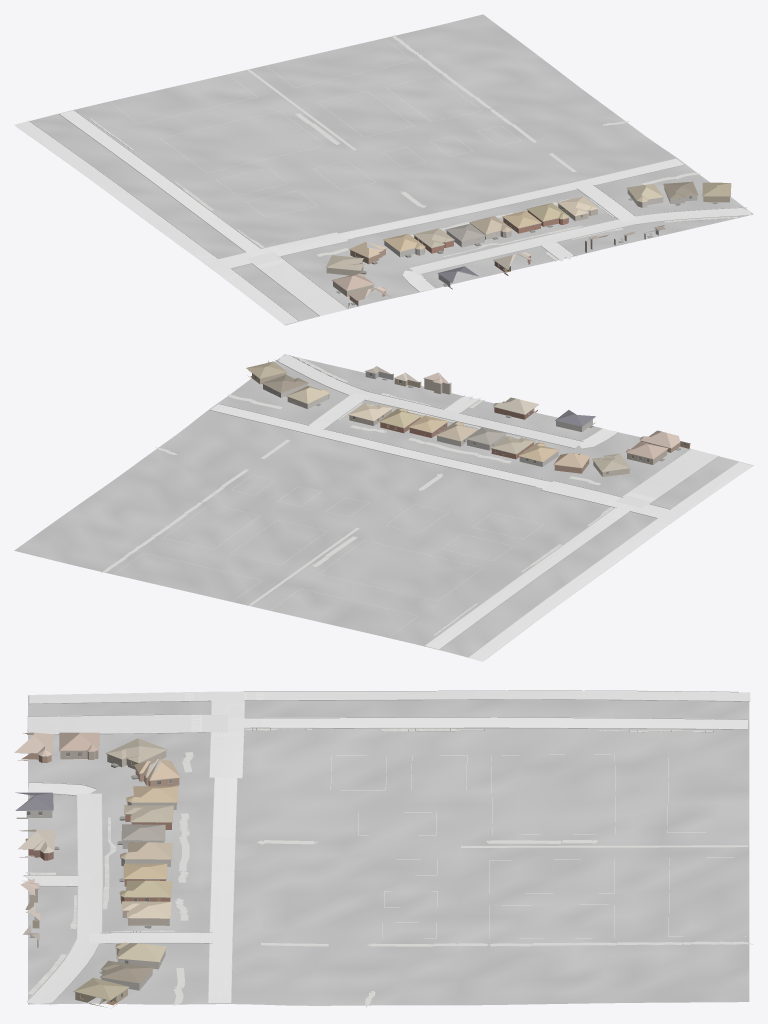
The picture shows the model from 3 angles, top to bottom: view 1: azimuth 30°, elevation 25°; view 2: azimuth 150°, elevation 25°; view 3: azimuth 270°, elevation 25°; orthographic projection. The views are drawn at different scales.
Visible parts, largest first — view 1: ground, asphalt, roof, concrete, curb, walk, mark_w, wall, detail, wall_stone, mark_y, wall_stucco; view 2: ground, asphalt, roof, concrete, walk, curb, wall, mark_w, wall_stucco, detail, wall_stone, mark_y; view 3: ground, asphalt, roof, concrete, walk, curb, mark_w, wall, mark_y, detail, wall_stucco, wall_stone.
Part boxes in pixels (x1,y1,x2,y2): ground: (16, 14, 753, 325); asphalt: (15, 110, 683, 324); roof: (326, 181, 731, 300); concrete: (14, 125, 751, 291); curb: (19, 110, 748, 320); walk: (89, 34, 737, 261); mark_w: (15, 39, 682, 324); wall: (326, 196, 729, 307); detail: (326, 186, 730, 305); wall_stone: (384, 187, 697, 289); mark_y: (28, 114, 680, 320); wall_stucco: (470, 189, 663, 252); ground: (14, 354, 753, 659); asphalt: (210, 404, 752, 661); roof: (246, 361, 680, 471); concrete: (278, 354, 617, 448); walk: (101, 358, 613, 635); curb: (210, 355, 738, 658); wall: (248, 360, 690, 476); mark_w: (115, 400, 751, 661); wall_stucco: (287, 372, 476, 446); detail: (249, 371, 689, 474); wall_stone: (263, 384, 595, 466); mark_y: (215, 407, 738, 657); ground: (28, 695, 749, 1005); asphalt: (27, 690, 750, 1002); roof: (14, 732, 180, 1000); concrete: (21, 782, 209, 1004); walk: (25, 728, 753, 1007); curb: (23, 690, 750, 1005); mark_w: (30, 691, 746, 1002); wall: (18, 751, 179, 1007); mark_y: (29, 699, 746, 1002); detail: (15, 731, 180, 1000); wall_stucco: (25, 858, 171, 969); wall_stone: (16, 802, 176, 990).
Size of the model in its own units: 255 by 10.28 by 256.
